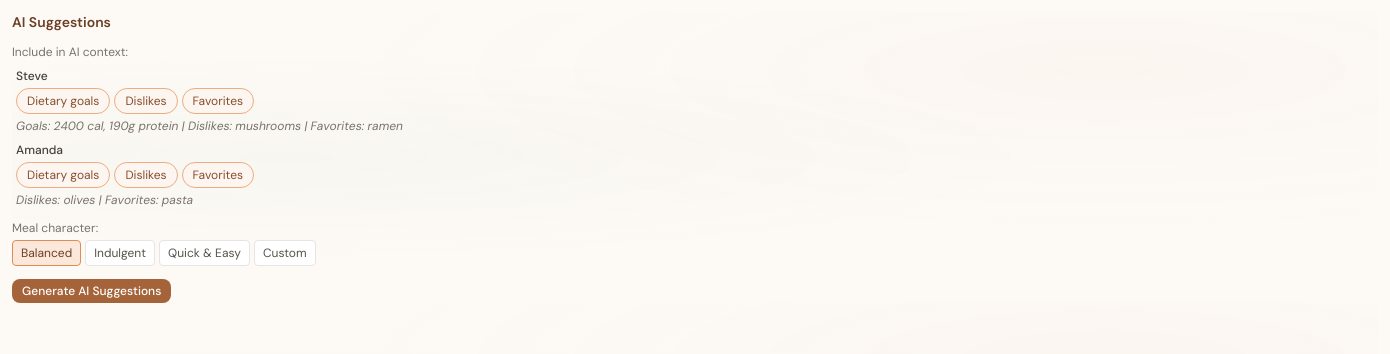
Scenario: AiSuggestionSection › shows custom text input when Custom character selected
Click the button "Custom" at (285, 253), box [254, 240, 316, 266]
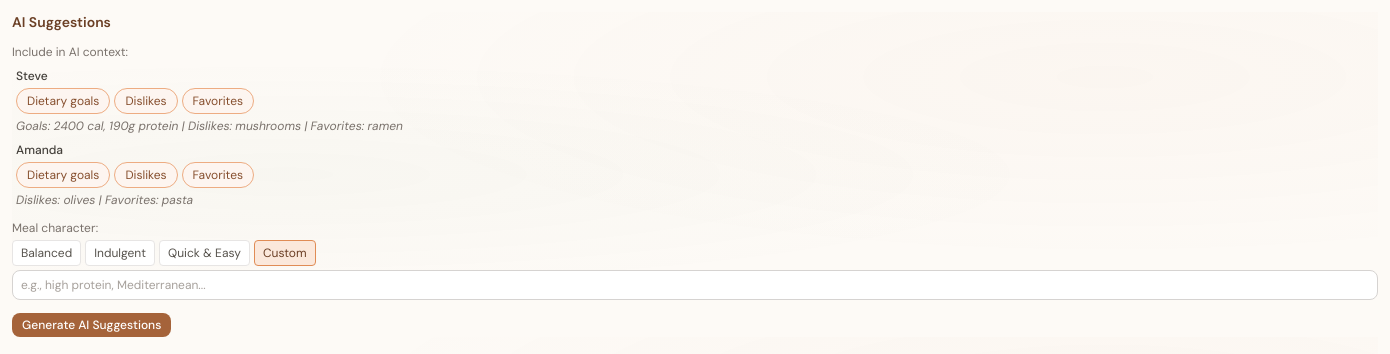
Check: the field with placeholder "e.g., high protein, Mediterranean..." is shown, box [12, 270, 1378, 300]
